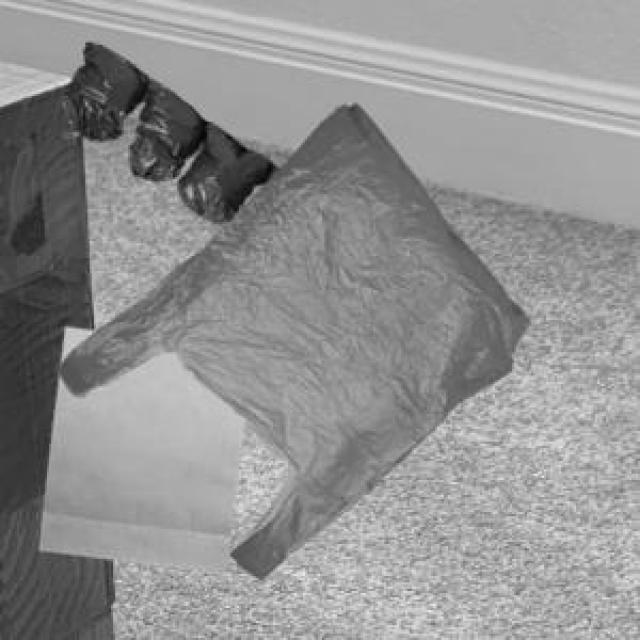miscellaneous trash: (58, 38, 275, 220)
paper: (36, 322, 241, 568)
